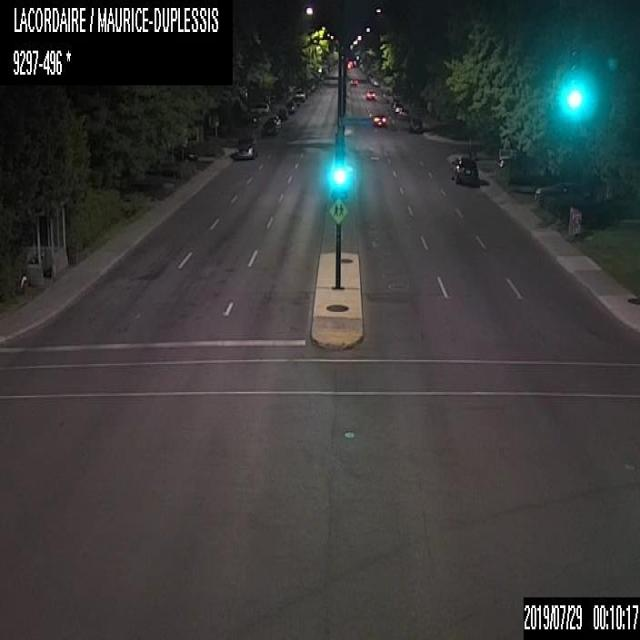vehicle: (534, 180, 584, 205), (450, 153, 478, 184), (233, 132, 256, 160), (262, 115, 281, 133), (249, 100, 269, 114), (497, 157, 515, 170), (408, 117, 422, 133), (244, 114, 261, 126), (372, 112, 384, 125), (276, 107, 288, 119), (392, 101, 403, 114), (397, 107, 409, 118), (285, 100, 297, 111), (294, 90, 305, 101), (366, 88, 376, 99), (291, 96, 299, 105), (349, 76, 357, 85), (371, 78, 378, 86)
